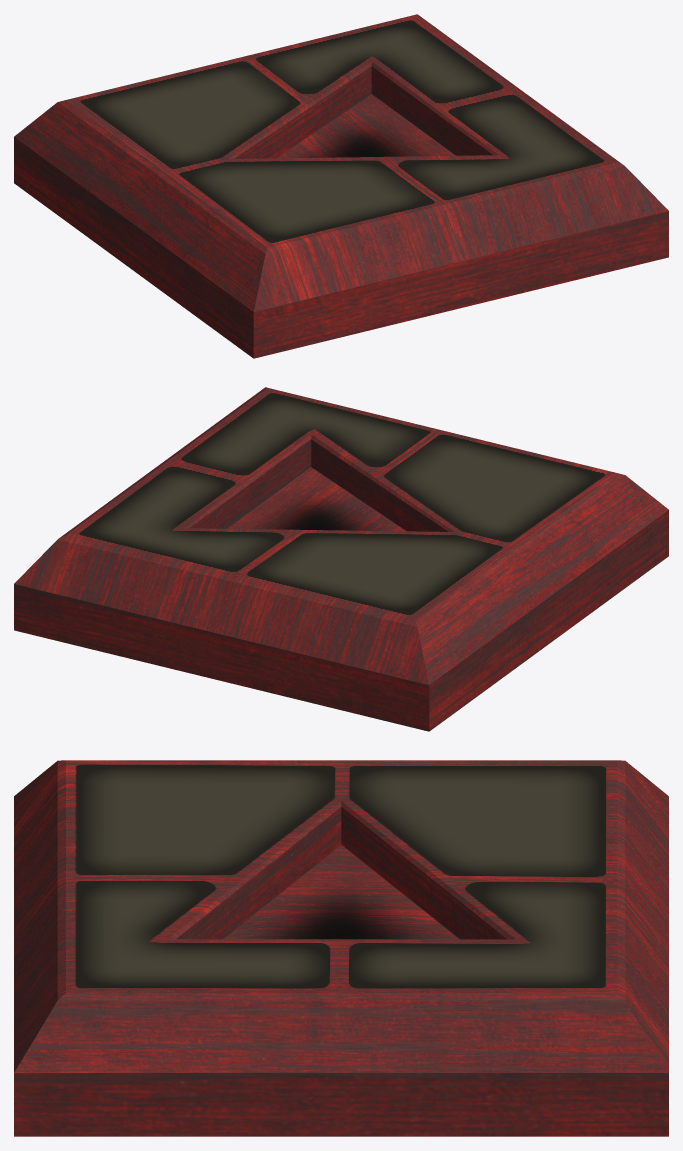
The model's file is HorseButton.fbx.
The picture shows the model from 3 angles, top to bottom: view 1: azimuth 30°, elevation 25°; view 2: azimuth 150°, elevation 25°; view 3: azimuth 270°, elevation 25°; orthographic projection. The views are drawn at different scales.
Parts seen in each view (by area): view 1: CastleButton; view 2: CastleButton; view 3: CastleButton.
Boxes of the visible parts, box(x1,y1,x2,y2) form: CastleButton: box(14, 14, 668, 358); CastleButton: box(14, 387, 668, 731); CastleButton: box(14, 760, 668, 1136).
Bounding box in the file's own units: 200 × 40.96 × 200.
